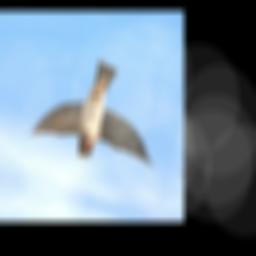Swallow: (22, 42, 168, 180)
